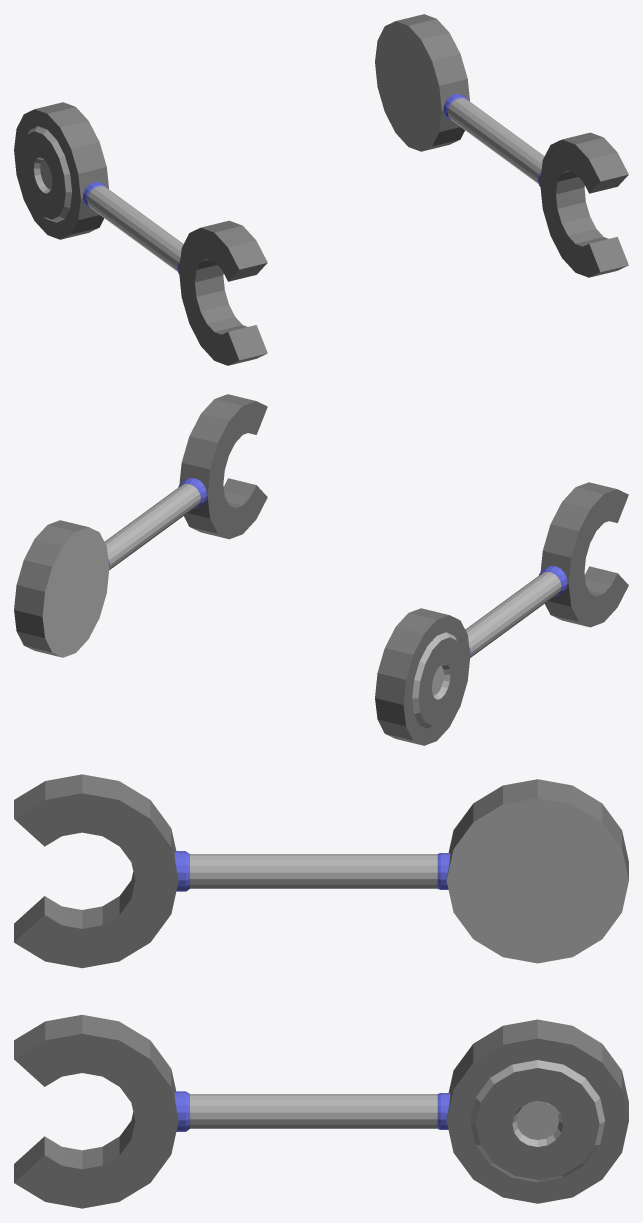
The model's file is armSimple.fbx.
3 renders of one model, top to bottom at view 1: azimuth 30°, elevation 25°; view 2: azimuth 150°, elevation 25°; view 3: azimuth 270°, elevation 25°, orthographic. The views are drawn at different scales.
Parts seen in each view (by area): view 1: Arm - Simple; view 2: Arm - Simple; view 3: Arm - Simple.
Boxes of the visible parts, box(x1,y1,x2,y2) form: Arm - Simple: box(14, 14, 628, 365); Arm - Simple: box(14, 394, 628, 745); Arm - Simple: box(14, 774, 628, 1208).
Size of the model in its own units: 84.68 by 83.05 by 26.06.
